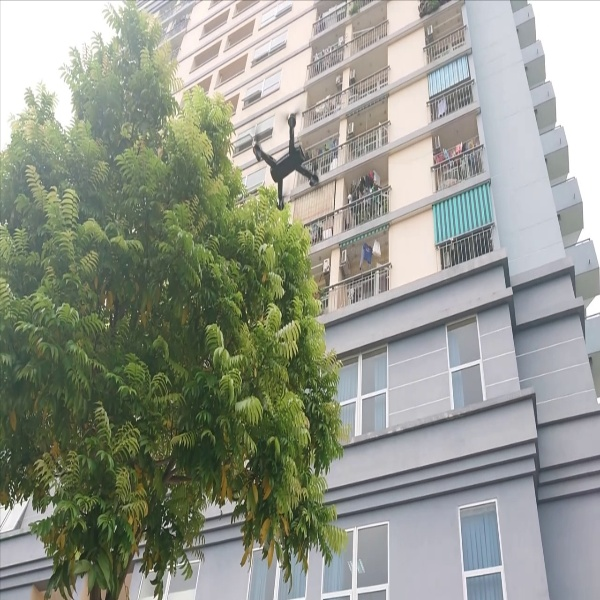drone: (247, 108, 327, 213)
